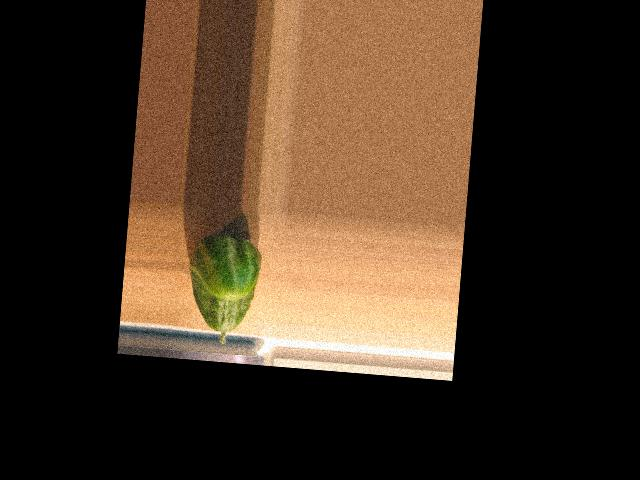cucumber: (184, 232, 264, 347)
